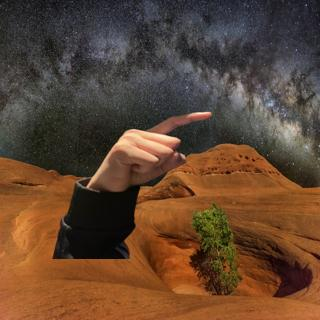WHY: (86, 104, 216, 191)
